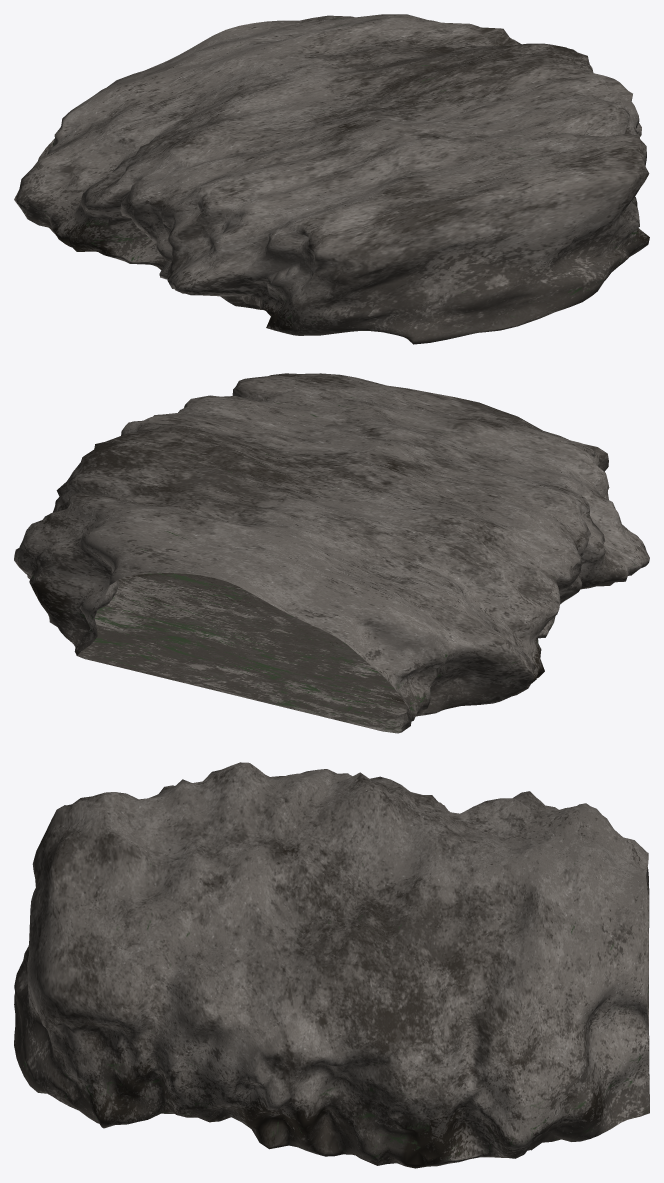
The model's file is cave.glb.
3 views of the same model, one above another, from view 1: azimuth 30°, elevation 25°; view 2: azimuth 150°, elevation 25°; view 3: azimuth 270°, elevation 25° (orthographic). The views are drawn at different scales.
Visible parts, largest first — view 1: Object_2; view 2: Object_2; view 3: Object_2.
Part boxes in pixels (<box>): Object_2: <box>14,14,649,344</box>; Object_2: <box>14,373,649,733</box>; Object_2: <box>14,762,649,1168</box>.
Size of the model in its own units: 13.92 by 3.47 by 11.75.
Materials: 1 (1 with a texture image).
